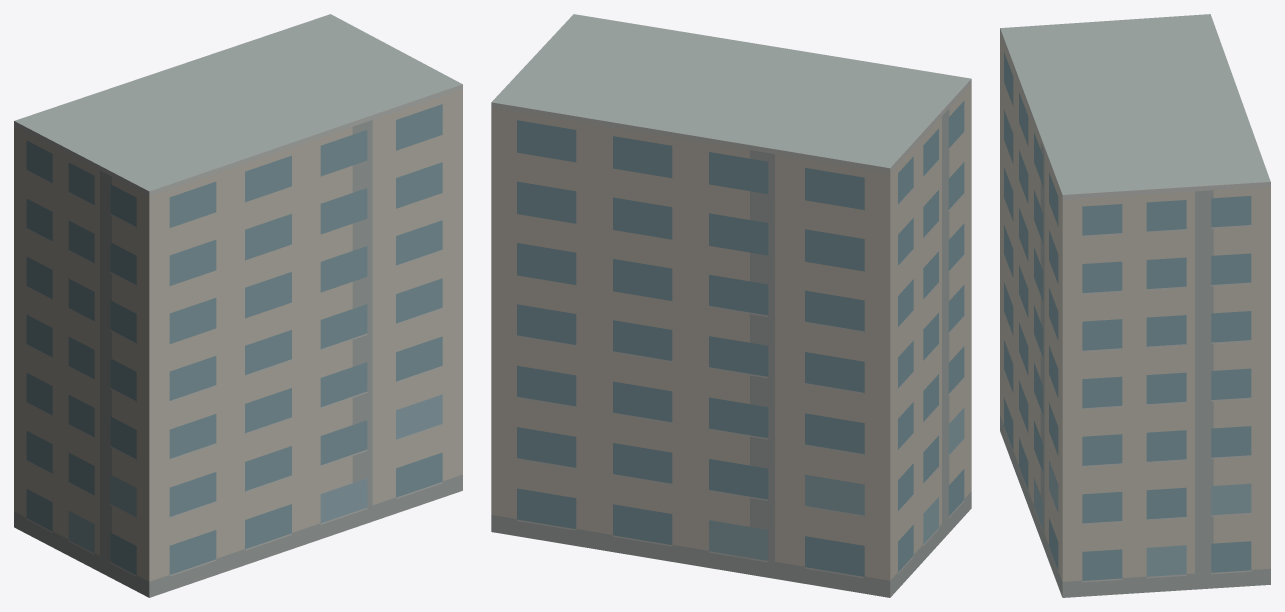
Rendered from survey-upis-32956535.glb.
The picture shows the model from 3 angles, left to right: view 1: azimuth 30°, elevation 25°; view 2: azimuth 150°, elevation 25°; view 3: azimuth 270°, elevation 25°; orthographic projection. The views are drawn at different scales.
Visible parts, largest first — view 1: survey-upis-32956535.tmp; view 2: survey-upis-32956535.tmp; view 3: survey-upis-32956535.tmp.
Boxes of the visible parts, x1,y1,x2,y2 form: survey-upis-32956535.tmp: (14,14,462,597); survey-upis-32956535.tmp: (491,14,971,597); survey-upis-32956535.tmp: (1000,14,1270,597).
Size of the model in its own units: 20.26 by 21.02 by 12.81.
